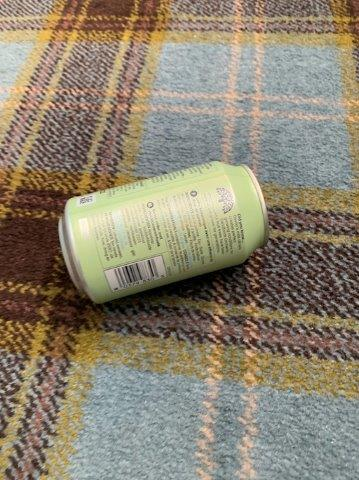kaleng: (59, 163, 269, 303)
